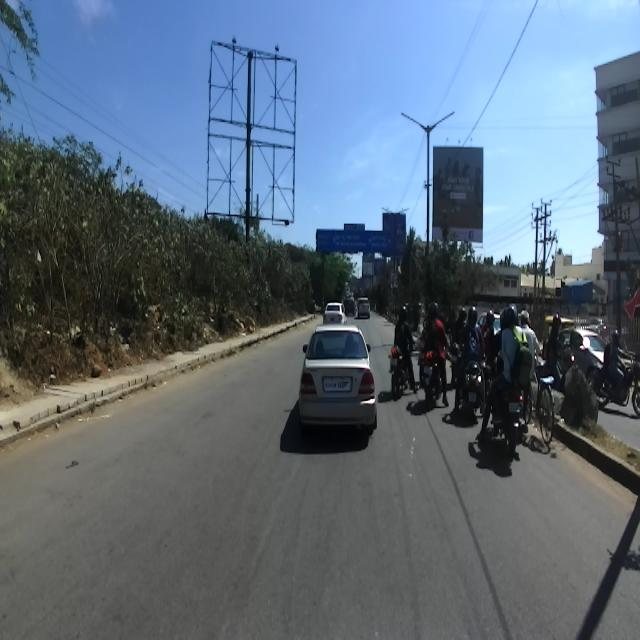car ahead at: (294, 315, 384, 440)
